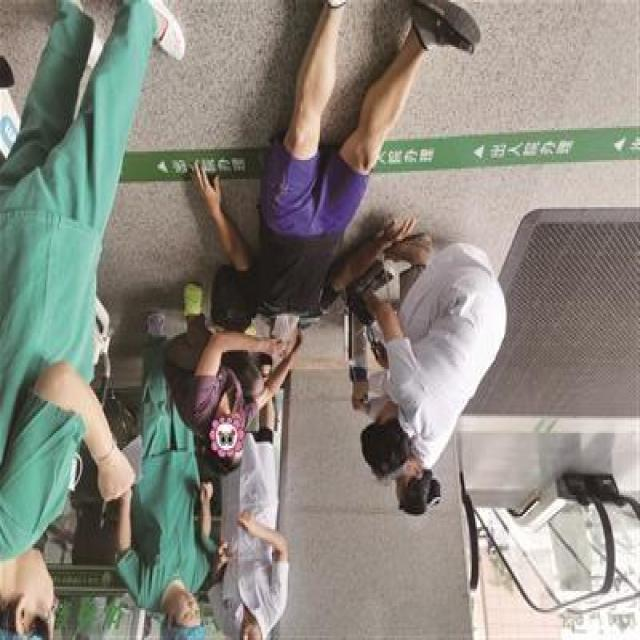nofight: (0, 19, 112, 632), (222, 14, 335, 368), (364, 231, 496, 474), (114, 389, 220, 640), (152, 294, 254, 472), (211, 434, 288, 640)
